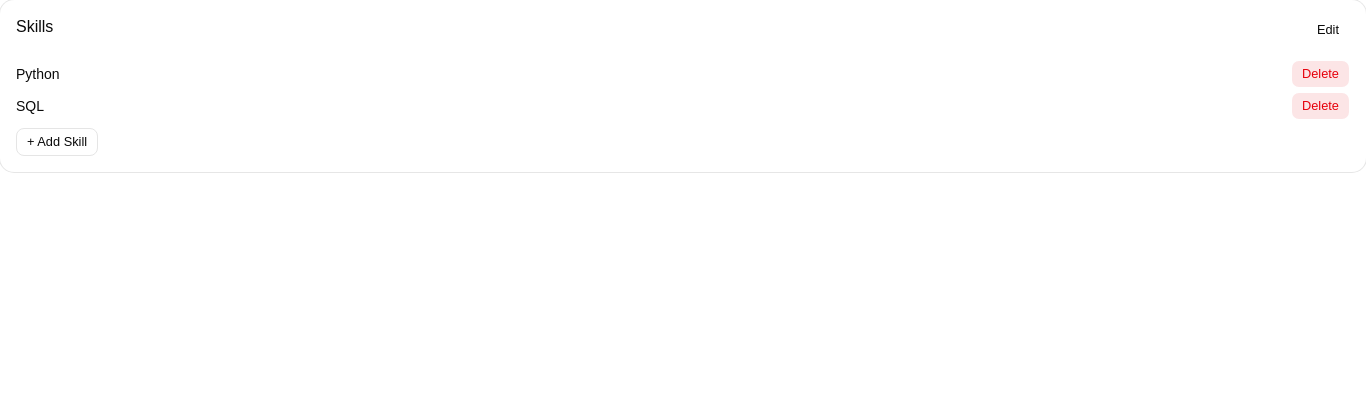
Scenario: EntitySection › saving in bulk mode only sends a PUT for rows that actually changed
Click the button "Edit" at (1328, 30), box [1306,16,1350,44]
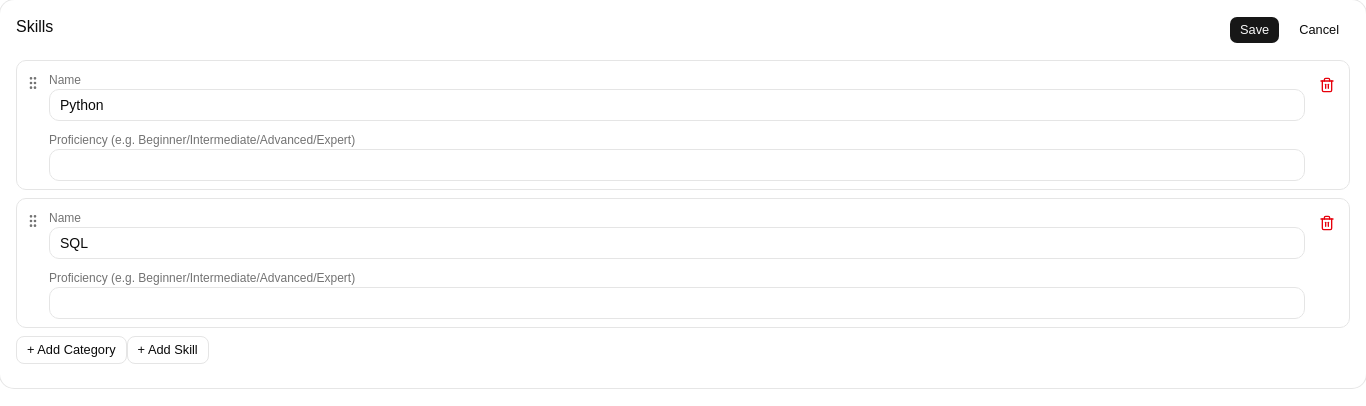
Type "Advanced" into the 1st field labelled "Proficiency (e.g. Beginner/Intermediate/Advanced/Expert)" at (677, 165), box [49,149,1305,181]
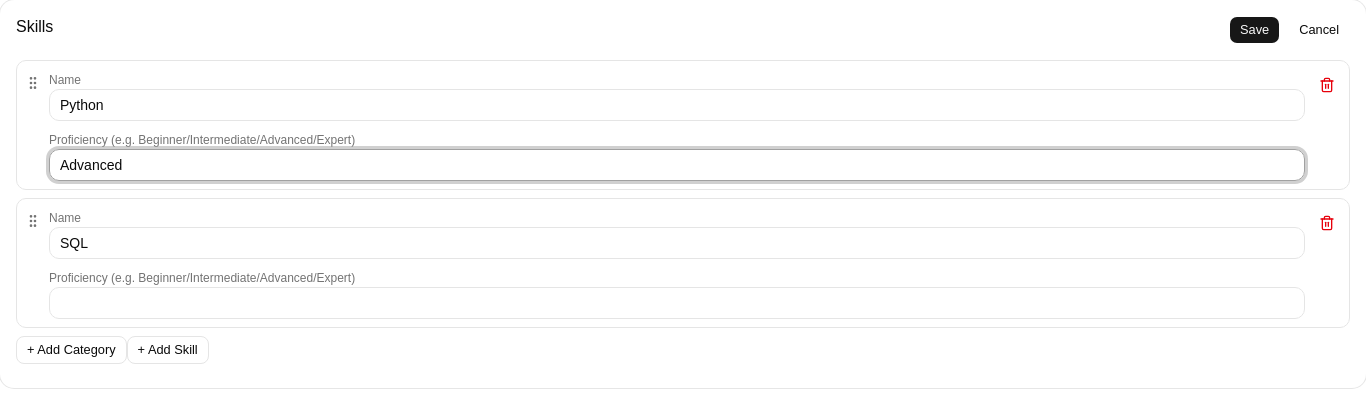
# Header now shows the bulk Save/Cancel pair, not per-row buttons.
Click the button "Save" at (1255, 30), box [1229,16,1280,44]
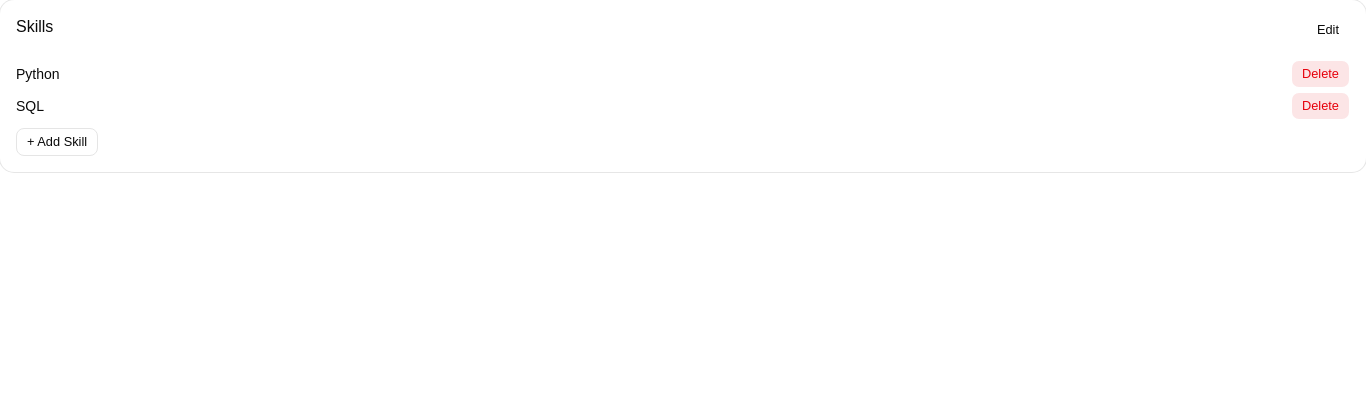
Check: the label labelled "Name" is gone
